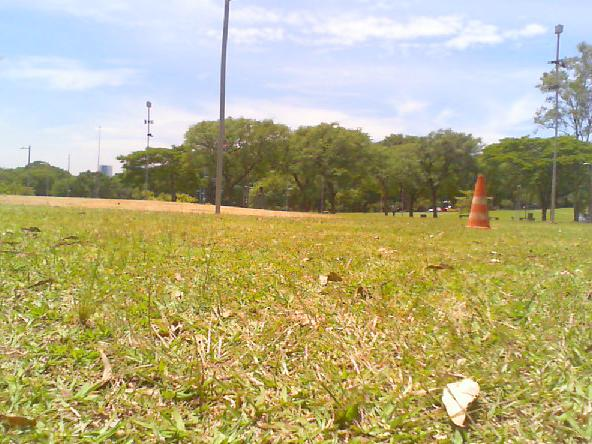0 cone: (465, 172, 492, 230)
